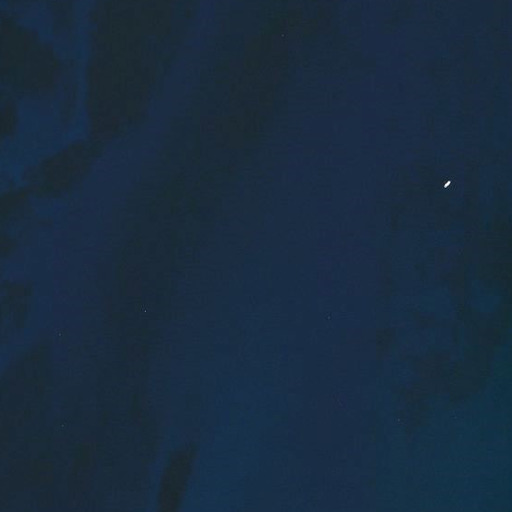ship: (441, 177, 453, 190)
